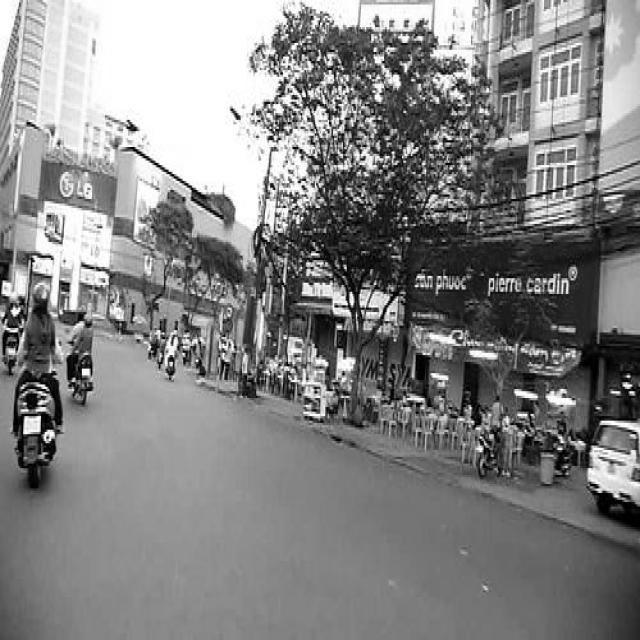vehicle: (587, 421, 640, 518), (14, 378, 59, 488), (73, 353, 95, 405), (4, 326, 18, 375), (169, 353, 175, 379)
